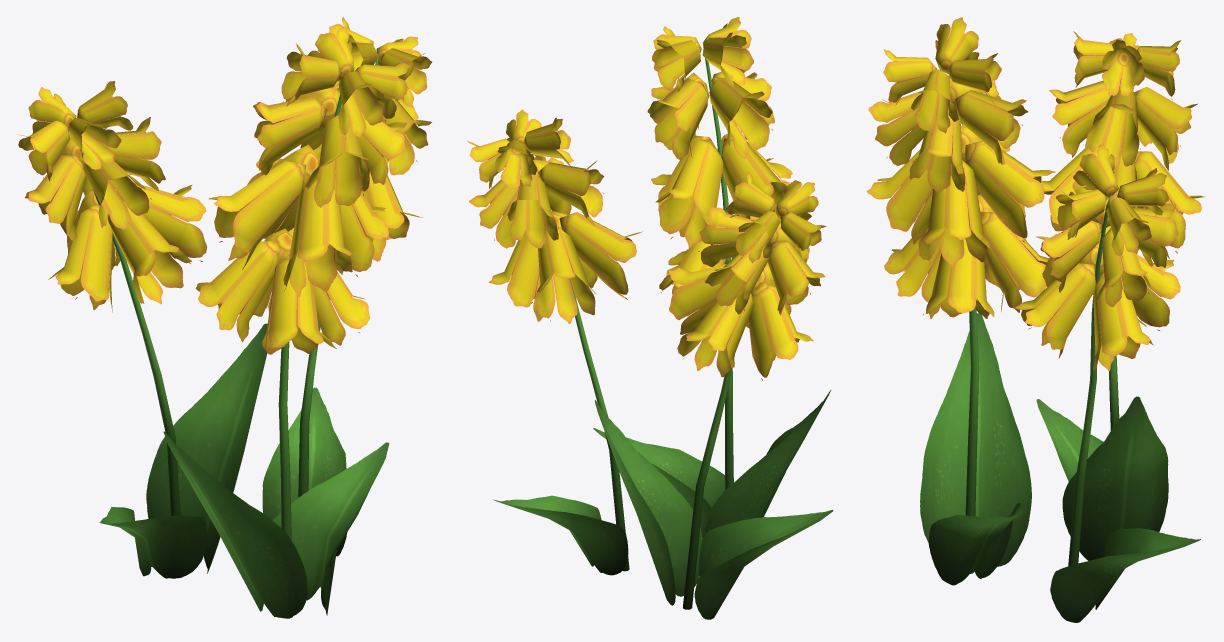
Rendered from Flower_4_Group.gltf.
The picture shows the model from 3 angles, left to right: view 1: azimuth 30°, elevation 25°; view 2: azimuth 150°, elevation 25°; view 3: azimuth 270°, elevation 25°; orthographic projection. The views are drawn at different scales.
Parts seen in each view (by area): view 1: Flower_4_Group; view 2: Flower_4_Group; view 3: Flower_4_Group.
Part boxes in pixels (bbox=[...]): Flower_4_Group: bbox=[17, 17, 431, 618]; Flower_4_Group: bbox=[467, 17, 833, 619]; Flower_4_Group: bbox=[866, 17, 1205, 622].
Bounding box in the file's own units: 1.78 × 2.49 × 1.37.
Materials: 2 (2 with a texture image).
